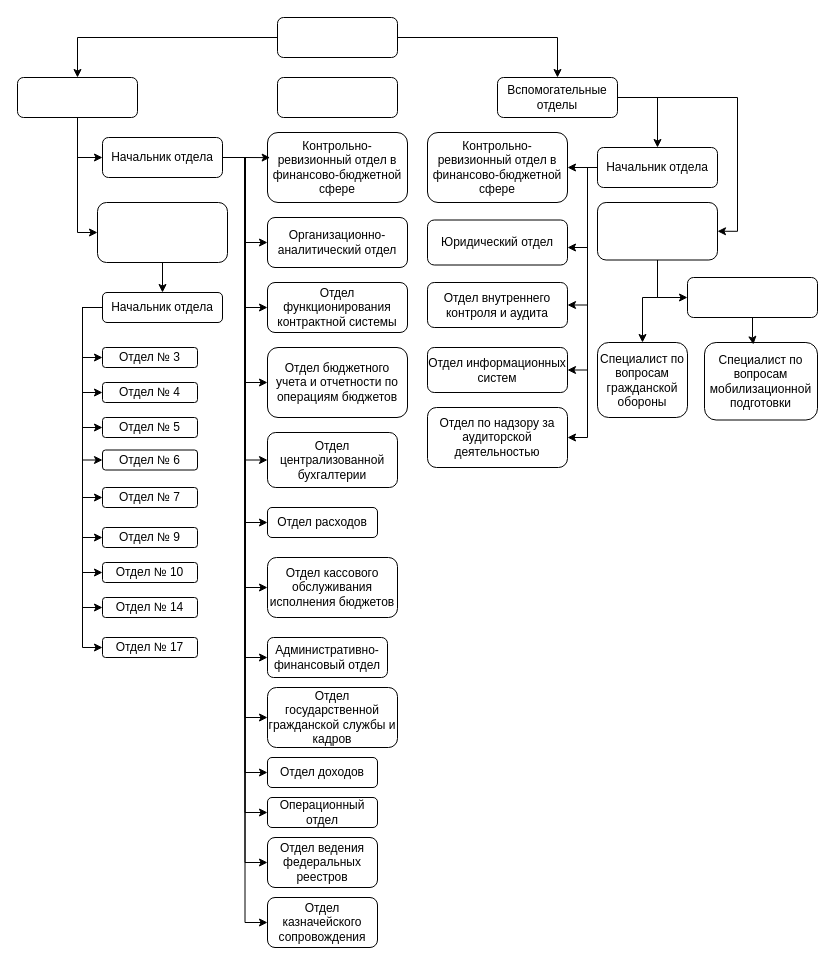
This 835x965 diagram has some shape labels left out. The shapes that lost their labels are listed below. From the top down, each one's centre as x and y in pixels, then its label:
At point (337, 37): "Руководитель".
At point (77, 97): "Заместитель руководителя".
At point (337, 97): "Помощник руководителя".
At point (162, 232): "Территориальные отделы УФК по Ленинградской области".
At point (657, 231): "Мобилизационная подготовка и гражданская оборона".
At point (752, 297): "Главный специалист-эксперт".
